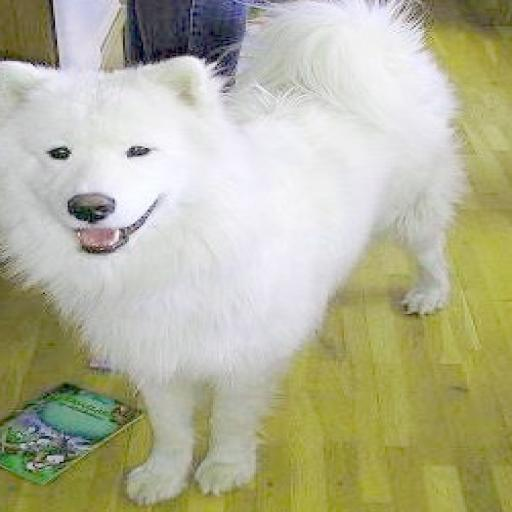dog_face: (0, 58, 209, 253)
